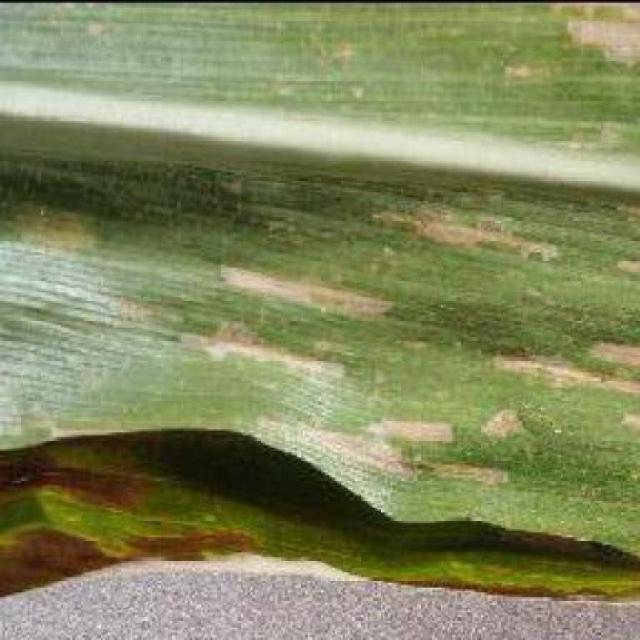Corn_Grey_Leaf_Spot: (17, 0, 640, 558)
